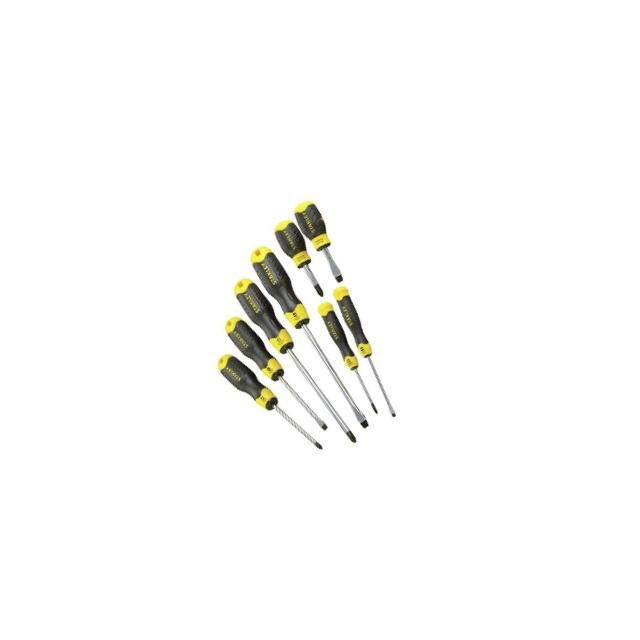screwdriver: (242, 238, 386, 432), (223, 272, 364, 458), (310, 280, 426, 426), (210, 334, 326, 472), (218, 305, 328, 446), (305, 298, 397, 416), (286, 198, 358, 286), (264, 217, 330, 302)
